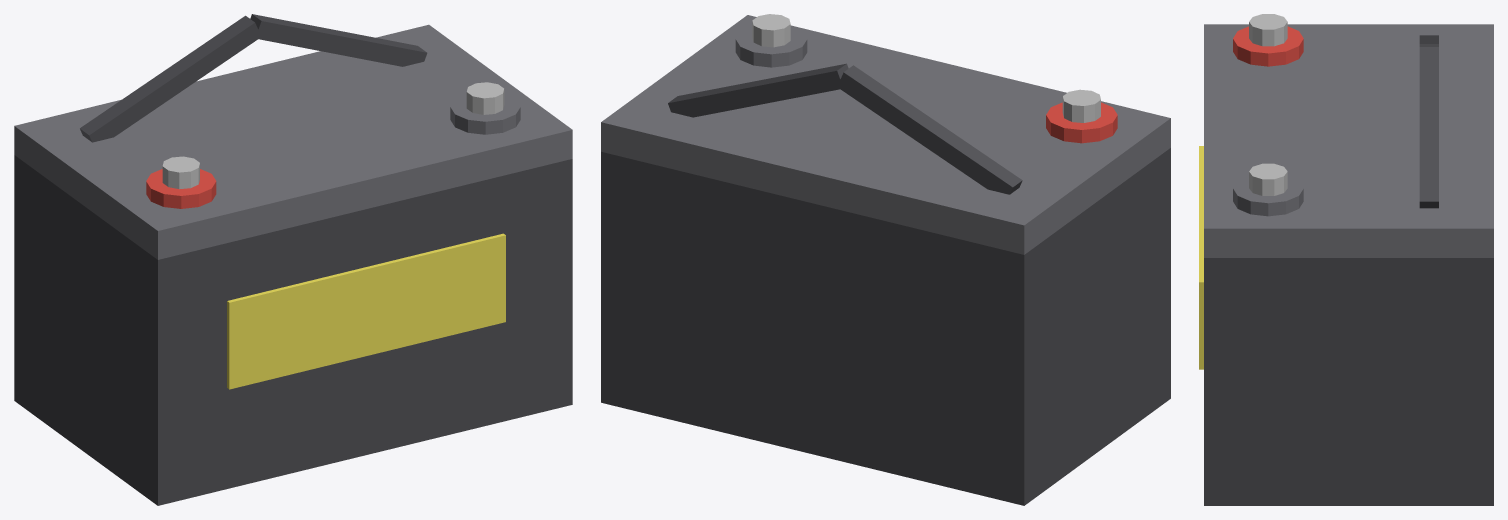
The model's file is dm_carbattery.glb.
3 views of the same model, side by side, from view 1: azimuth 30°, elevation 25°; view 2: azimuth 150°, elevation 25°; view 3: azimuth 270°, elevation 25° (orthographic). The views are drawn at different scales.
Parts seen in each view (by area): view 1: dm_carbattery; view 2: dm_carbattery; view 3: dm_carbattery.
Part boxes in pixels (x1,y1,x2,y2): dm_carbattery: (14,14,572,505); dm_carbattery: (601,14,1170,505); dm_carbattery: (1199,14,1493,505).
Size of the model in its own units: 0.3 by 0.2455 by 0.183.
